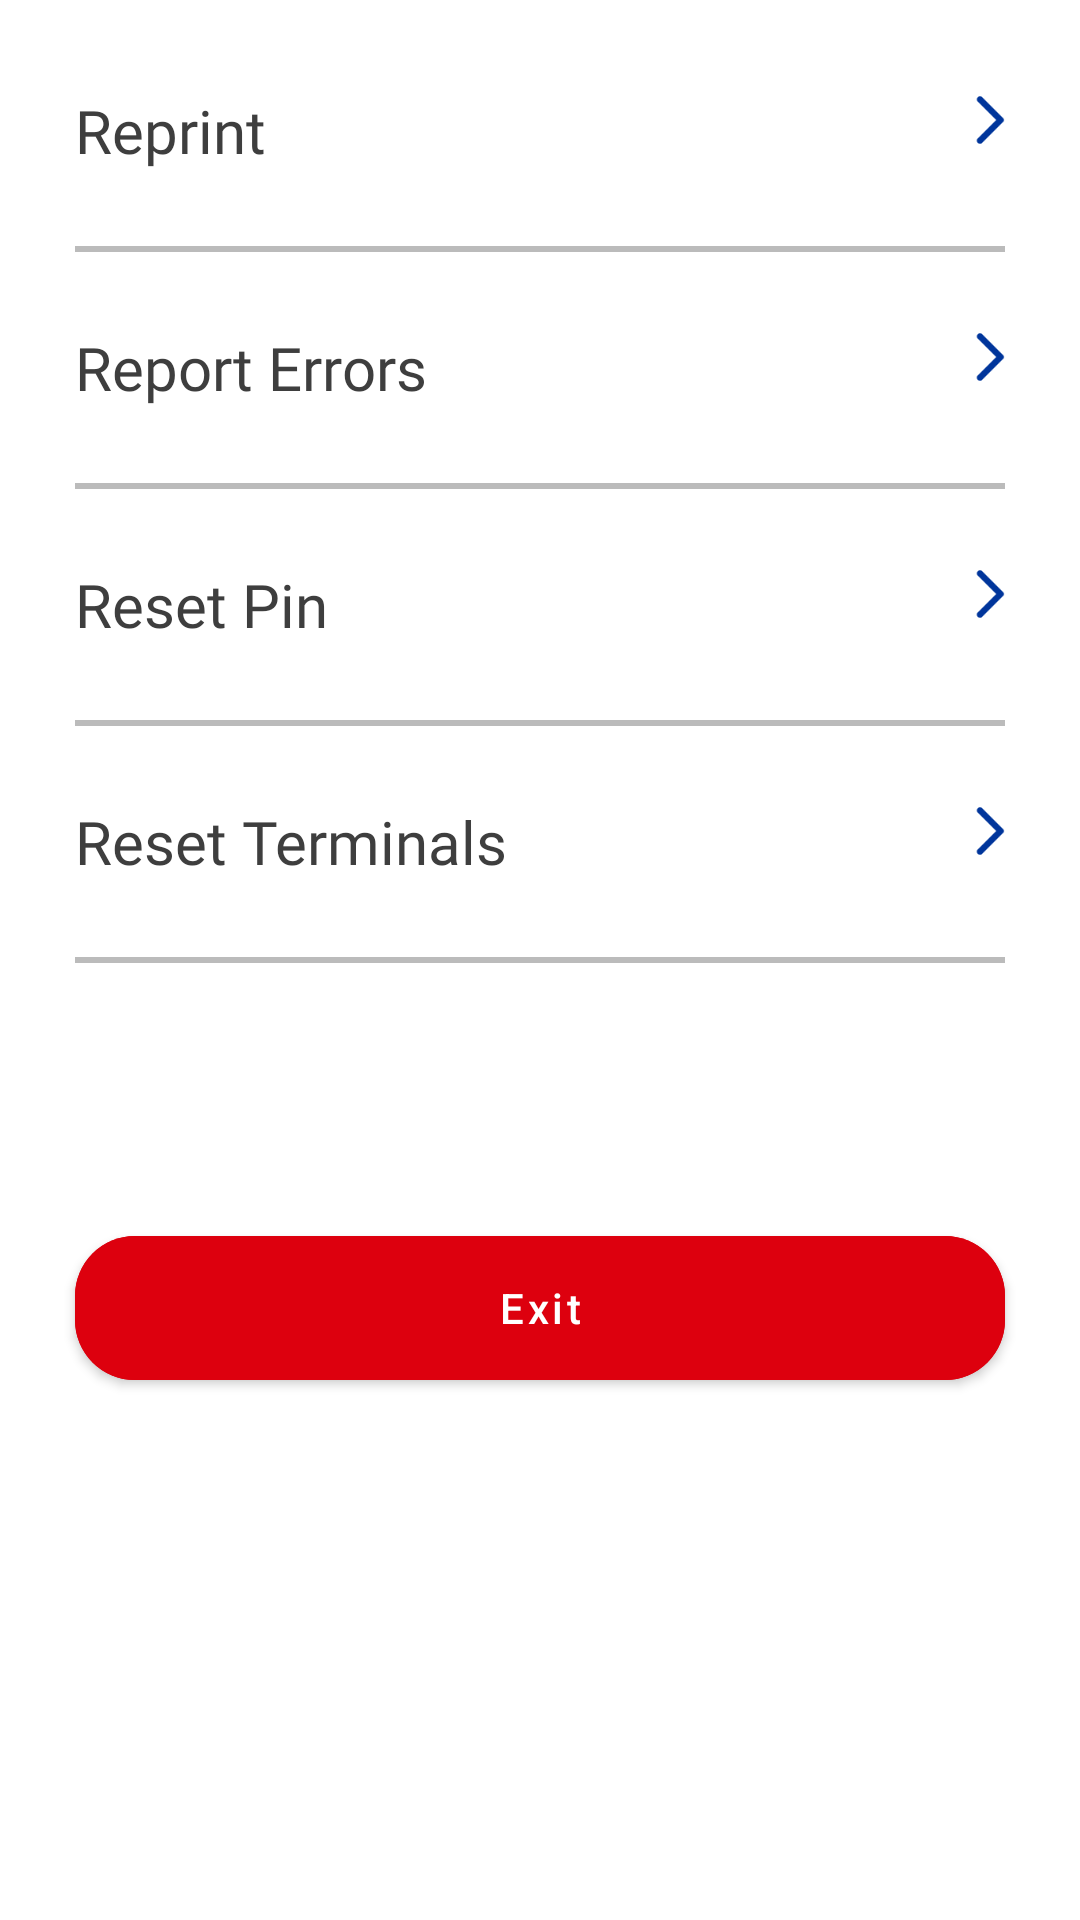

Point at icon controls on the screen. Image size 1080px x 1920px, points as point (x, y).
forward: point (990, 120), point (990, 357), point (990, 594), point (990, 831)
